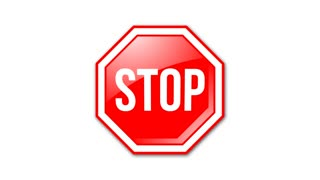stopsign: (94, 24, 227, 155)
